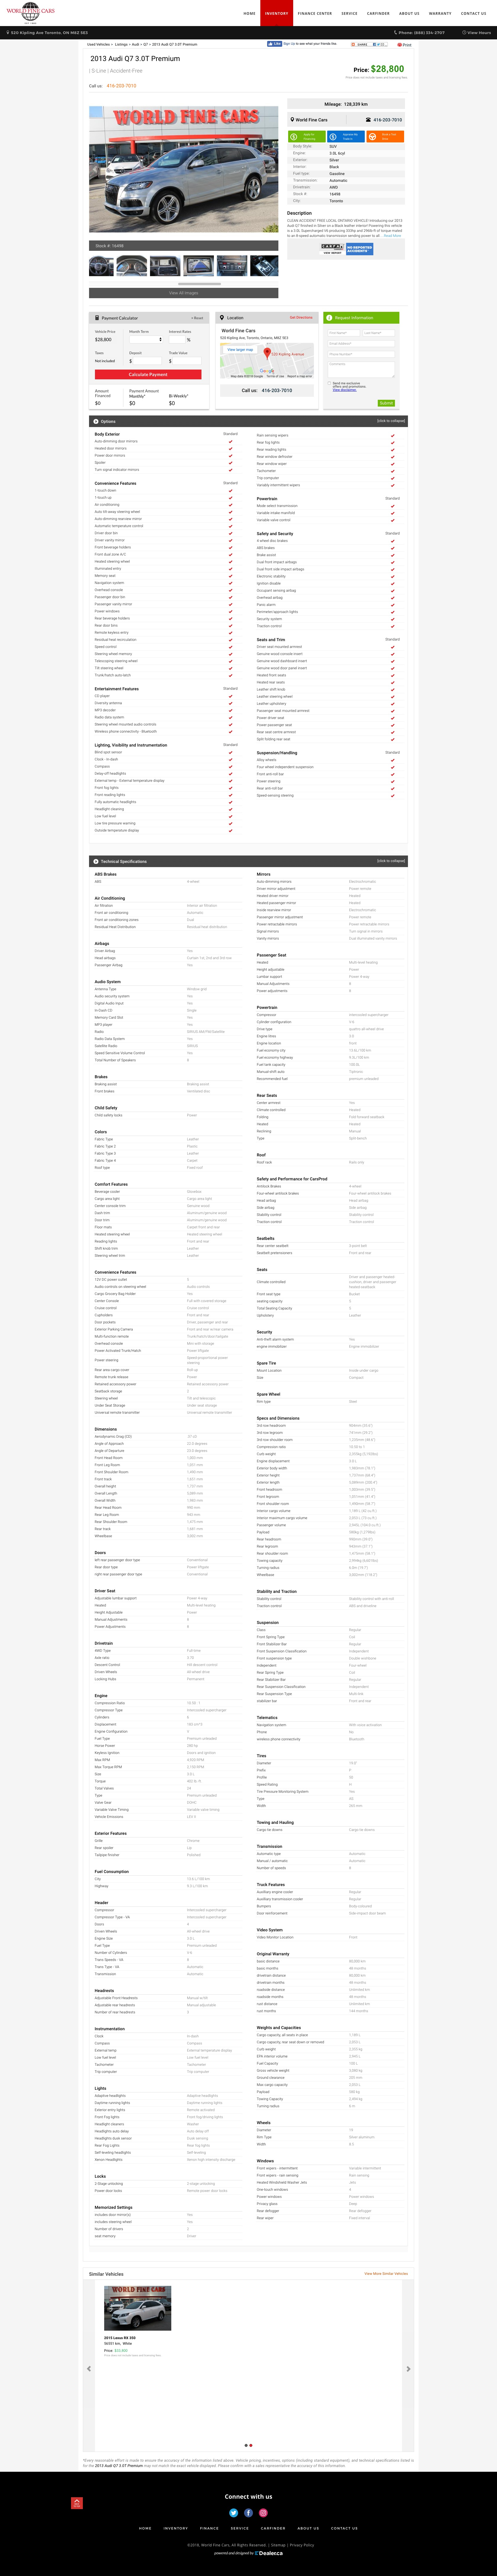car: (271, 166, 276, 174)
